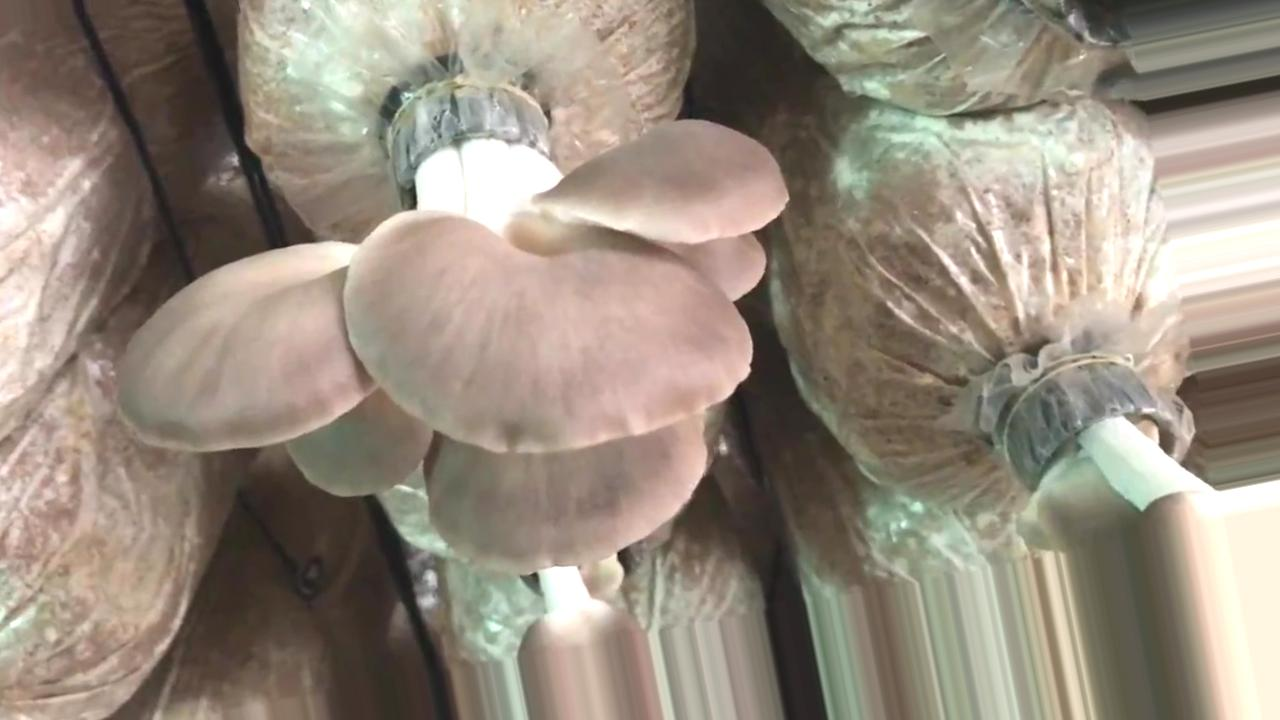nam: (117, 83, 789, 573), (1016, 358, 1280, 718), (516, 558, 665, 719)
